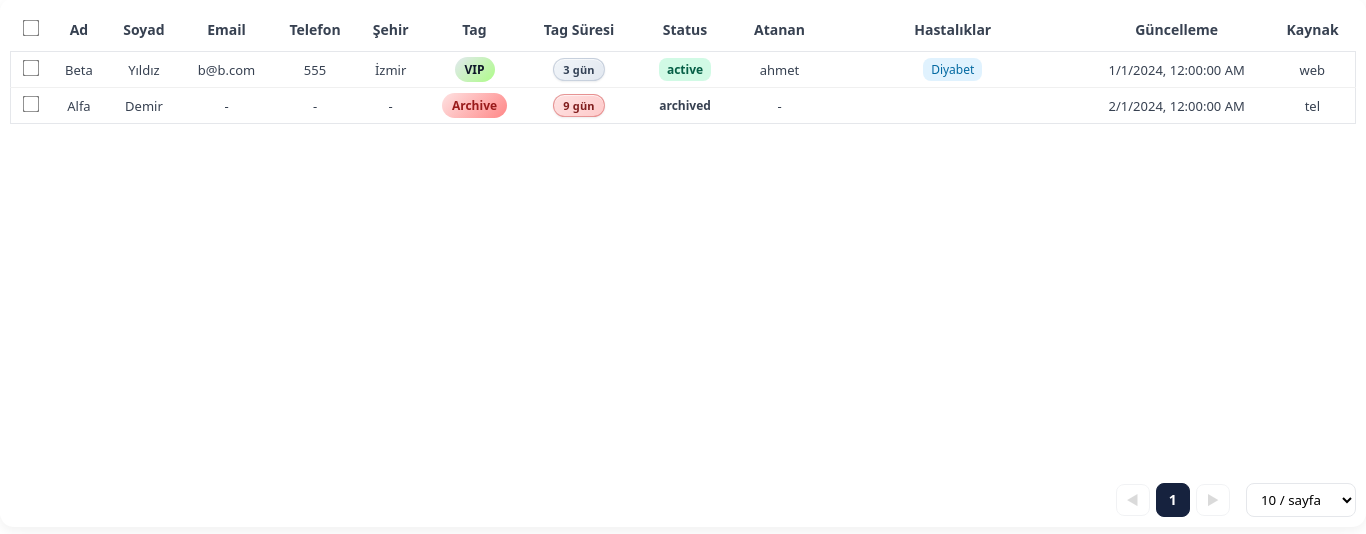
CustomerList › selection (uncontrolled) › selects all rows via the header checkbox
Step 1. Click the checkbox in the row of "Soyad" → [30, 28], box [22,20,39,36]
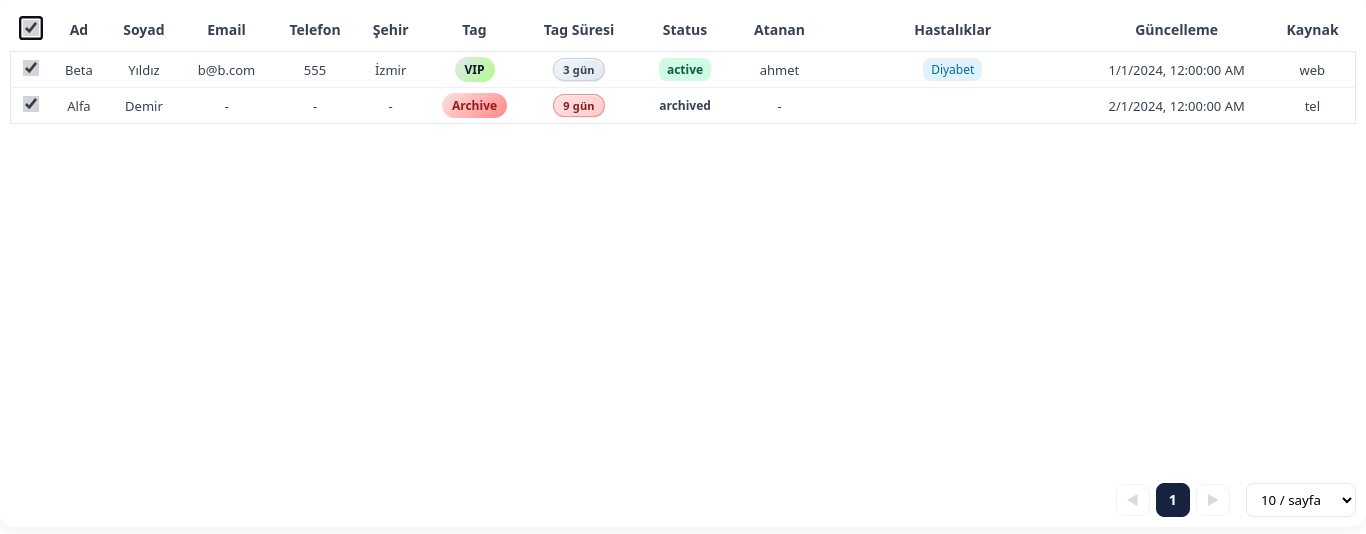
Check: the checkbox next to "Beta" is checked, box [22,59,39,76]
Check: the checkbox next to "Alfa" is checked, box [22,95,39,112]
